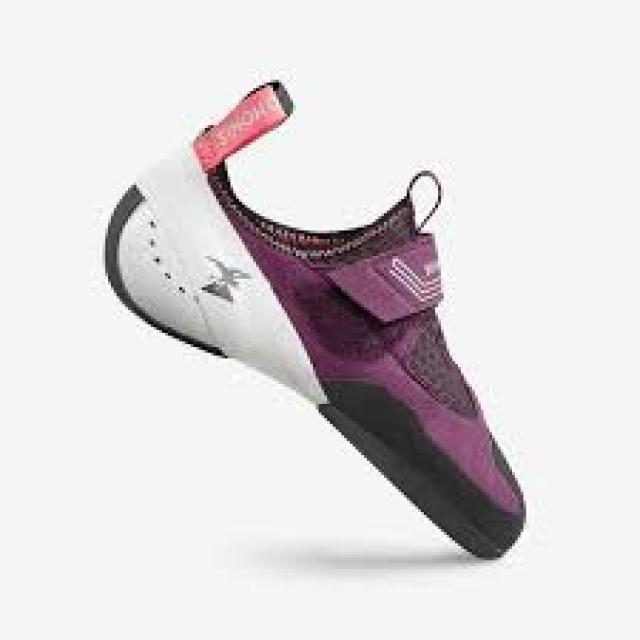climbing-shoes: (100, 78, 531, 564)
